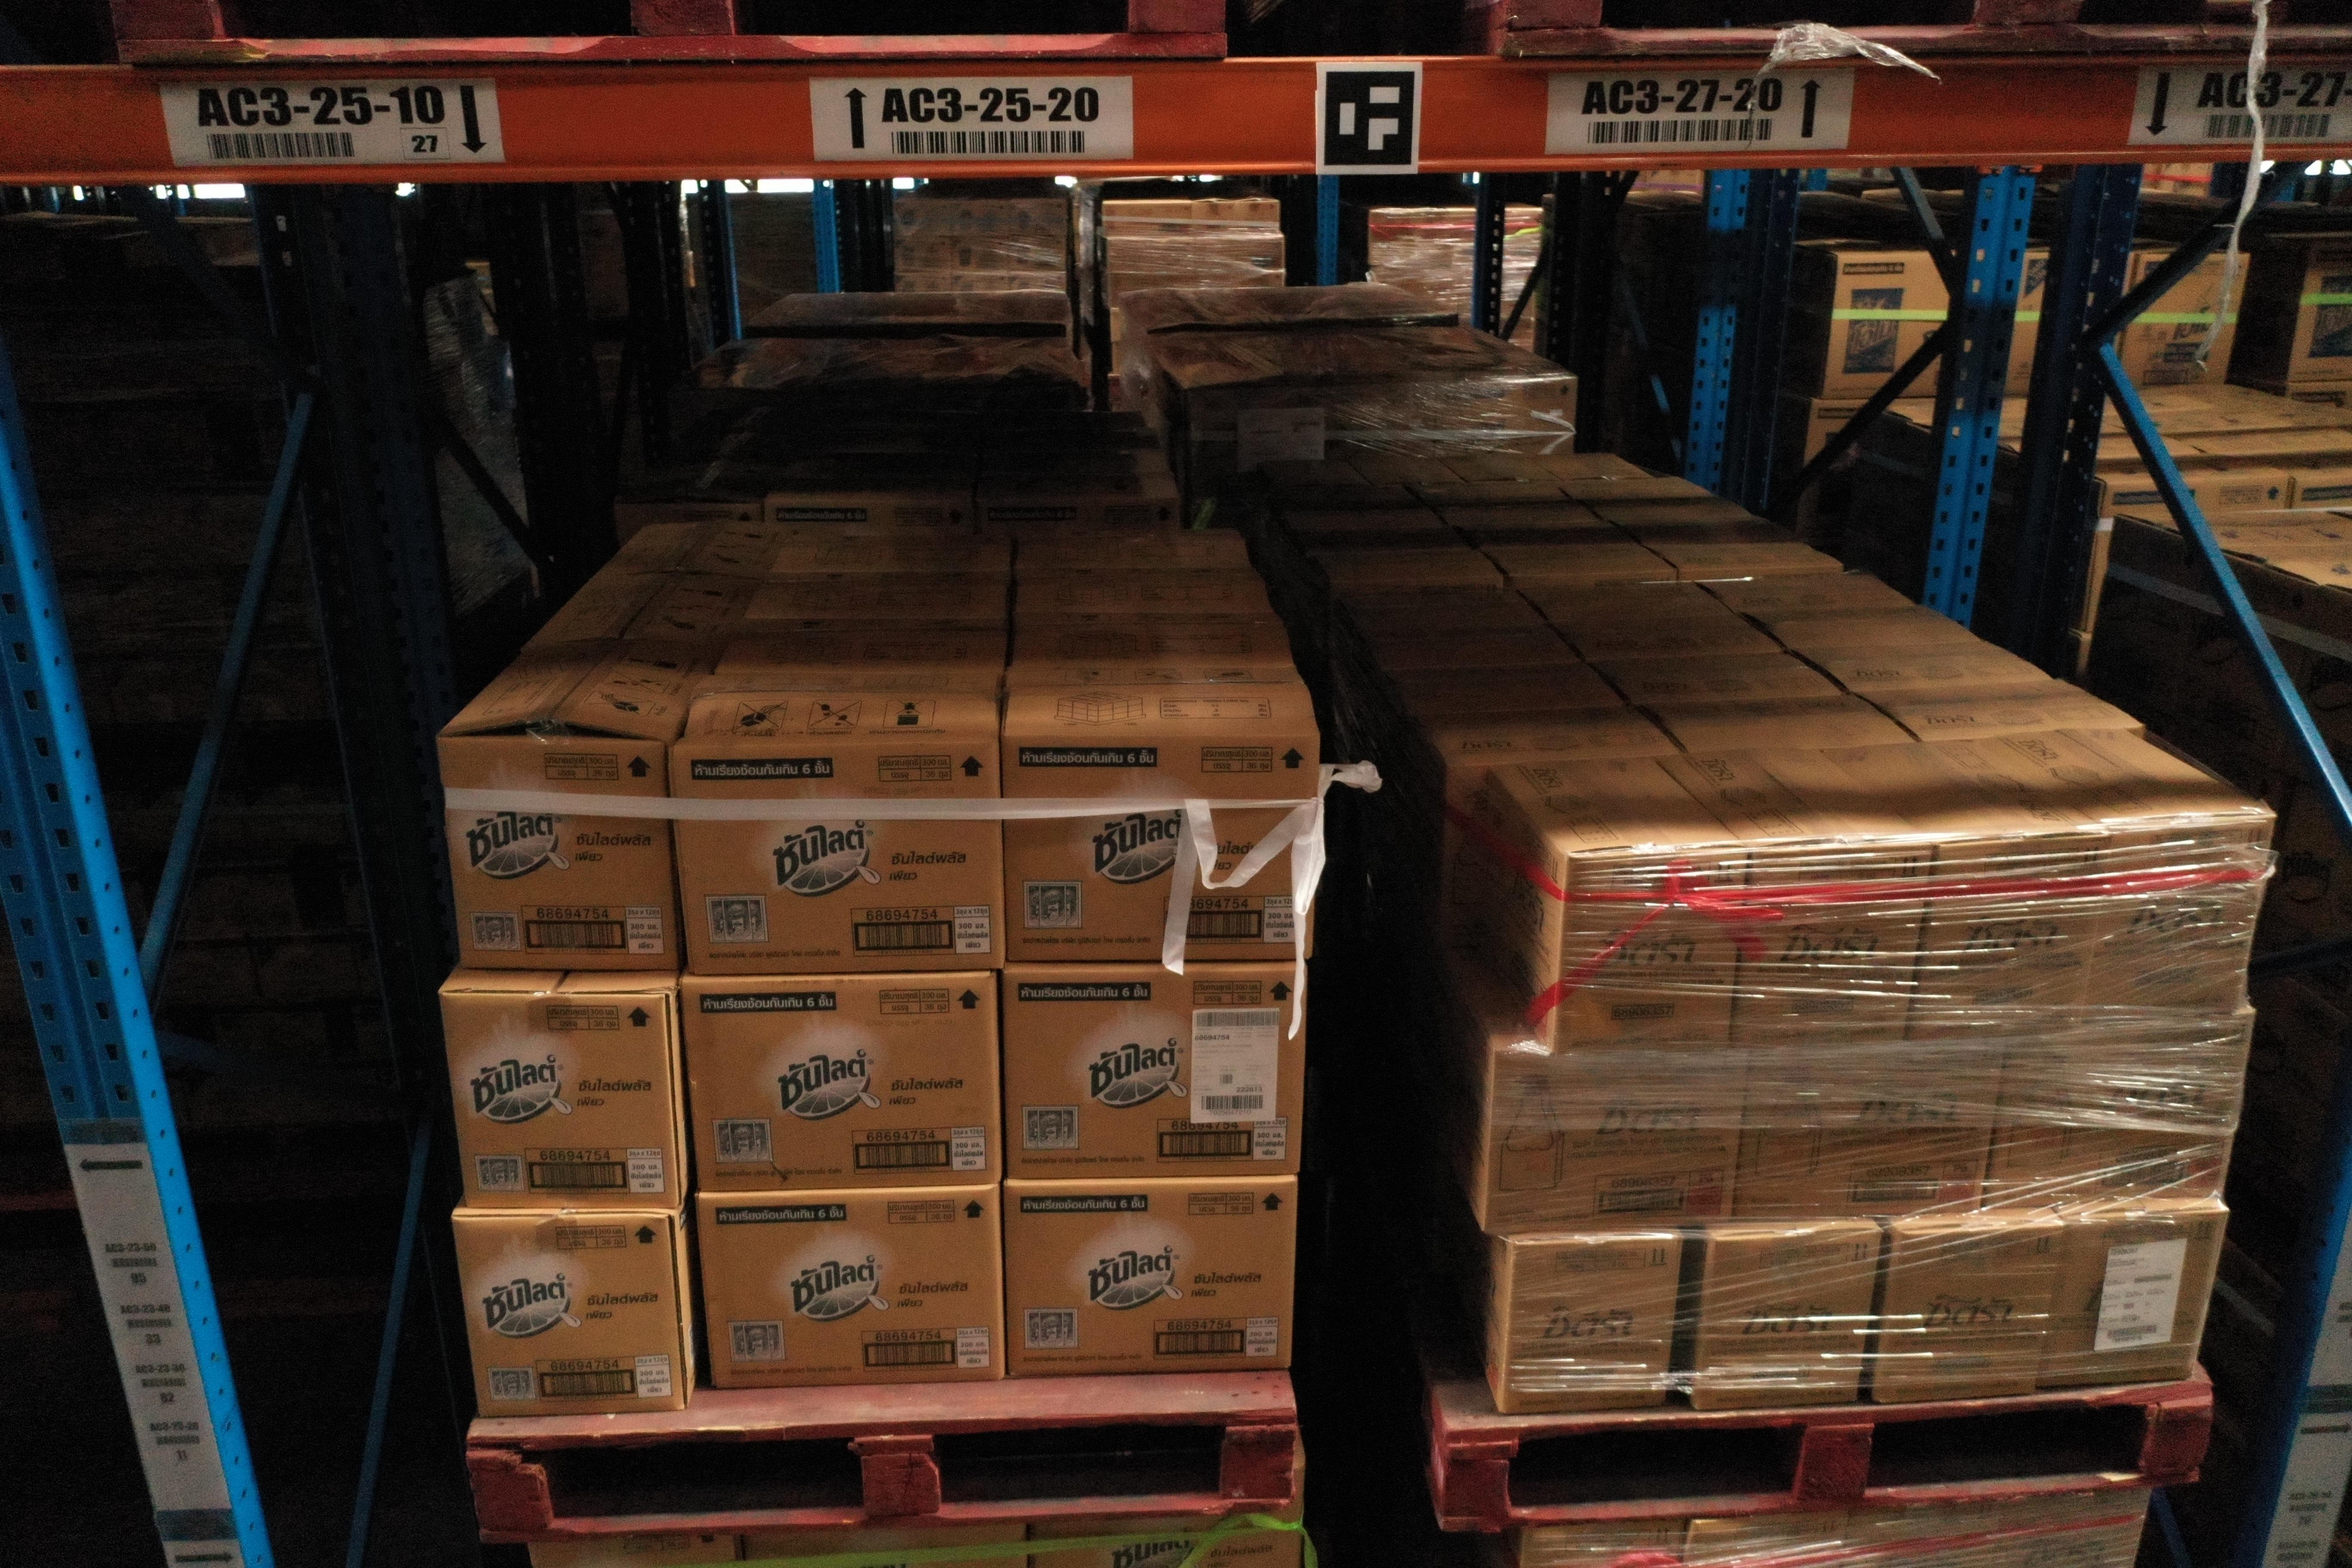-: (663, 737, 1008, 978), (999, 728, 1321, 968), (677, 976, 999, 1199), (999, 964, 1309, 1179), (695, 1188, 1004, 1395), (999, 1178, 1297, 1382), (441, 733, 681, 976), (436, 989, 684, 1209), (1981, 1015, 2254, 1209), (1734, 1038, 2007, 1228), (1482, 1052, 1746, 1241), (451, 1209, 689, 1416), (2082, 819, 2278, 1043), (1906, 833, 2109, 1043), (1554, 847, 1752, 1057), (1732, 845, 1934, 1048), (1872, 1227, 2070, 1407), (1689, 1232, 1881, 1414), (2044, 1209, 2231, 1388), (1496, 1241, 1678, 1419), (1036, 1508, 1302, 1568), (1998, 1480, 2154, 1568), (754, 1519, 1027, 1568), (1839, 1496, 2004, 1568), (1685, 1510, 1853, 1568), (1519, 1517, 1685, 1568), (530, 1529, 737, 1568)
2: (1822, 254, 1970, 402), (2110, 248, 2250, 394)
